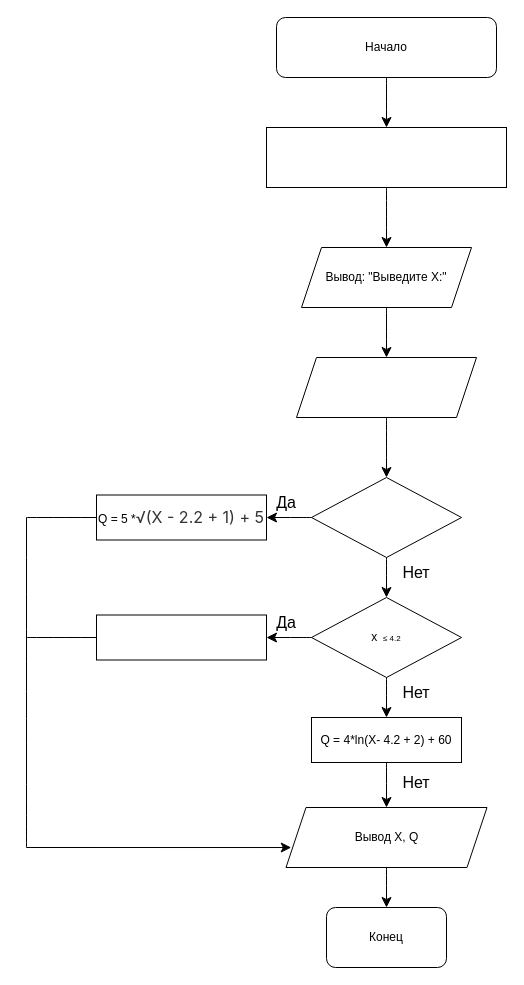
Image size: 524x985. Some labels were removed from this diagram. The shapes that lost their labels are listed below. From the top down, each one's centre as x and y in pixels, then its label:
the point at 386,157: setlocale(LC_ALL,"Russian")
the point at 386,387: Ввод X
the point at 386,517: x < 2.2
the point at 181,637: Q = 2*(X - 3.2) + 50
